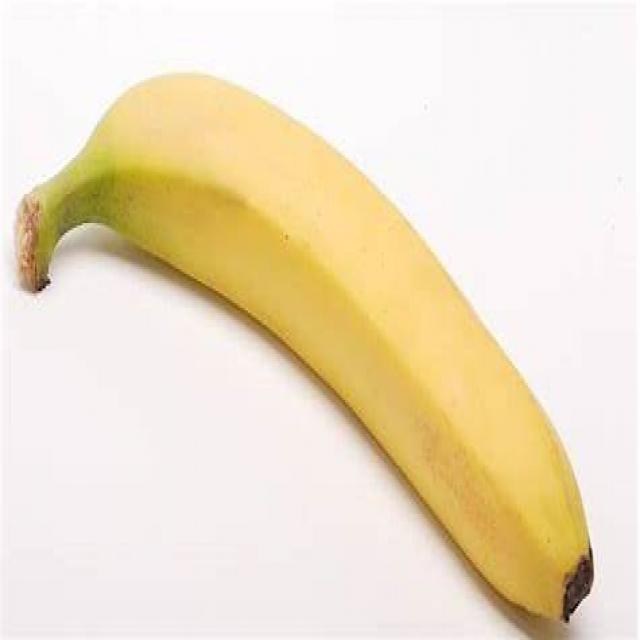Banana: (16, 63, 598, 628)
